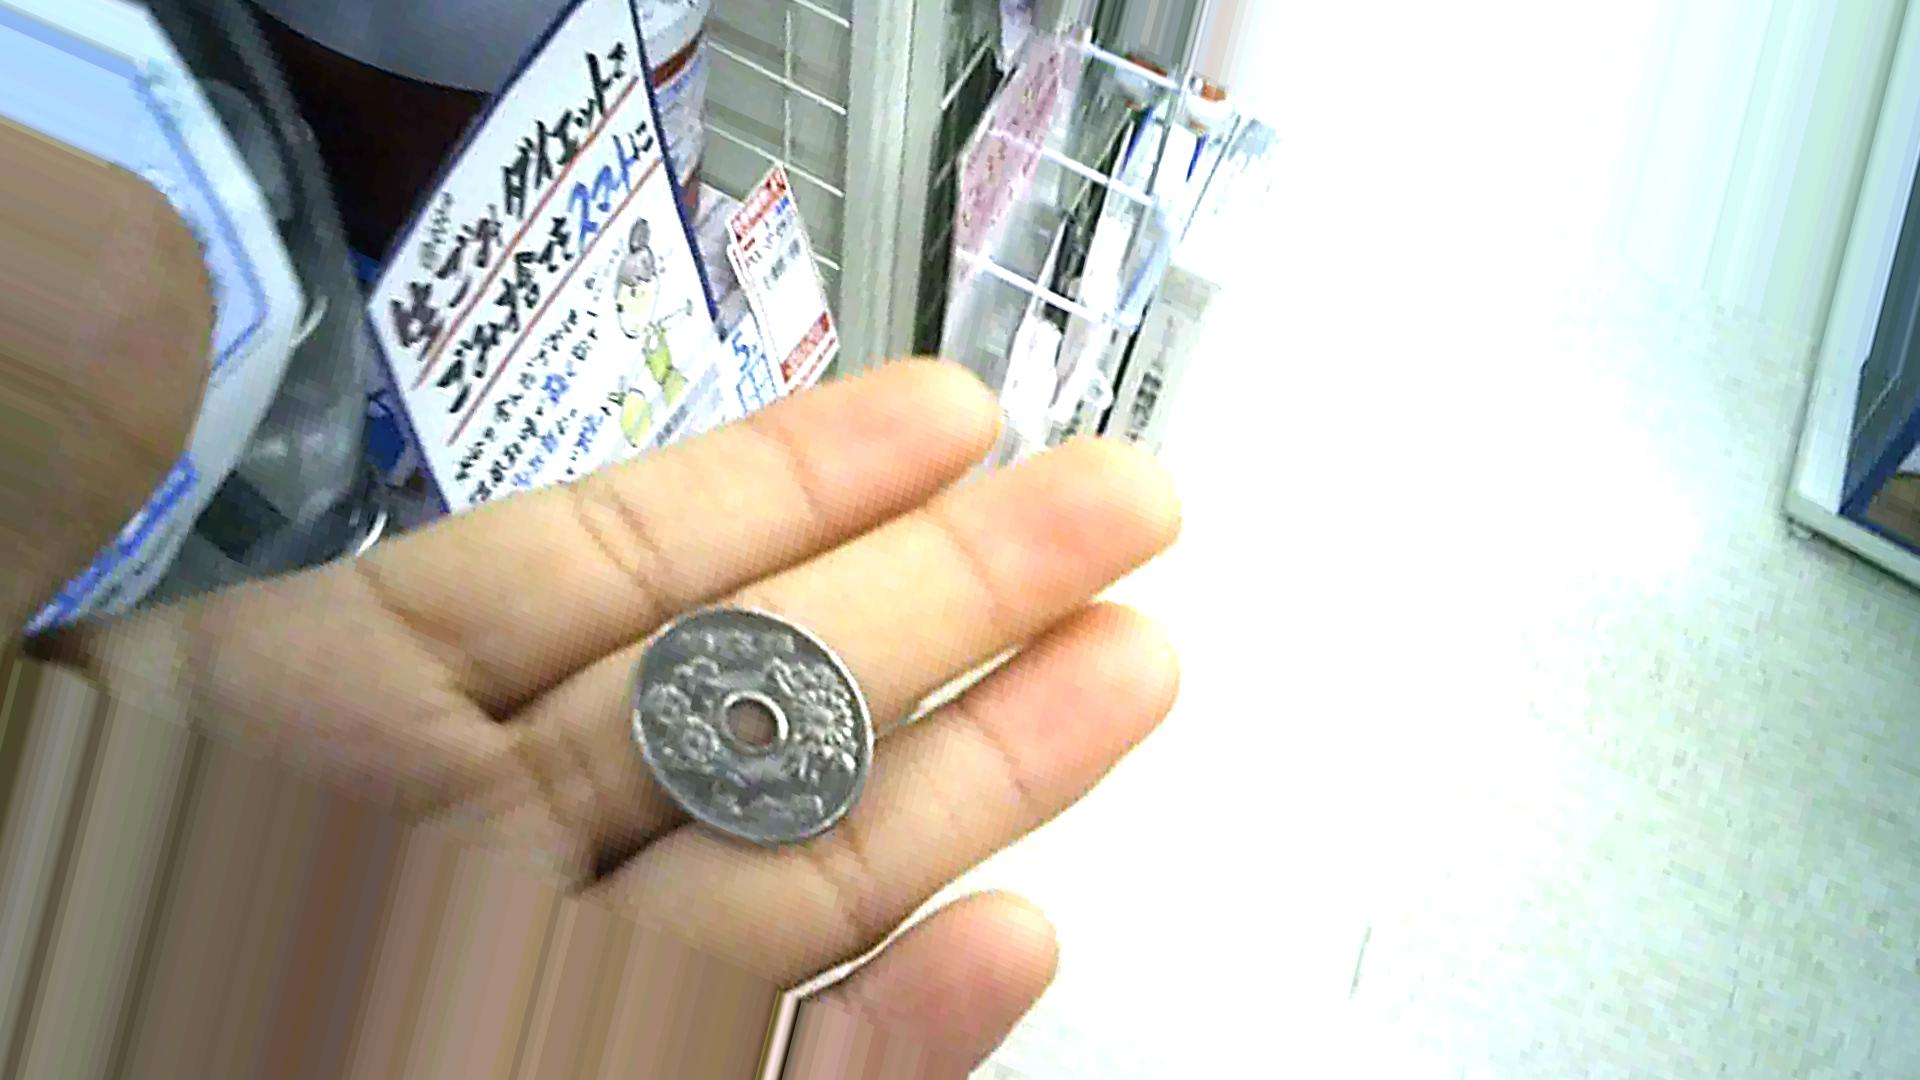50 Yen: (632, 603, 882, 847)
